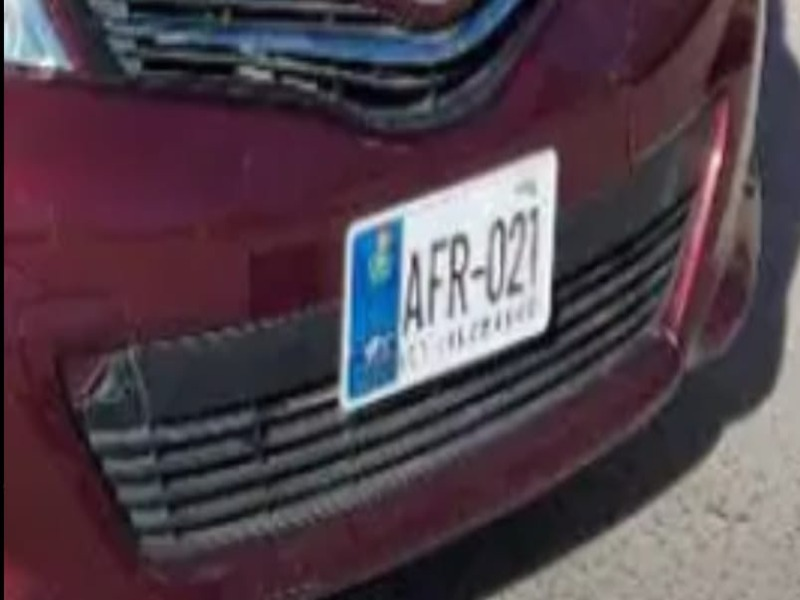License Plate: (340, 148, 556, 407)
